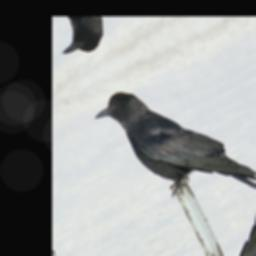Crow: (87, 48, 256, 245)
